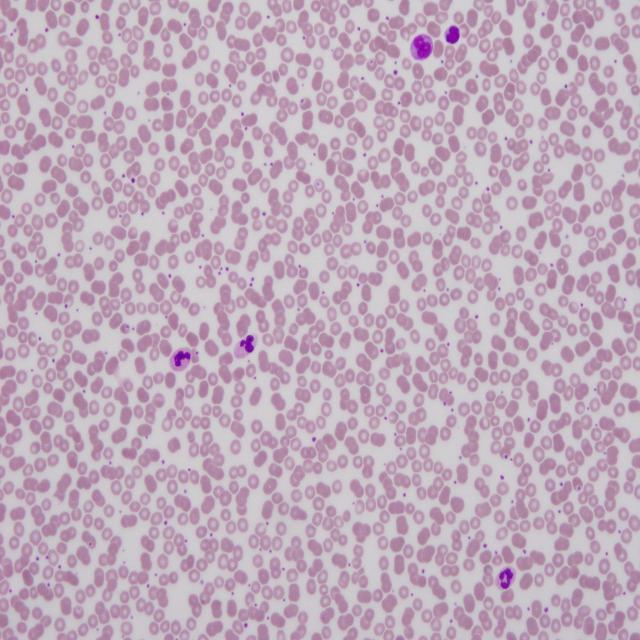cell: (495, 567, 514, 590)
